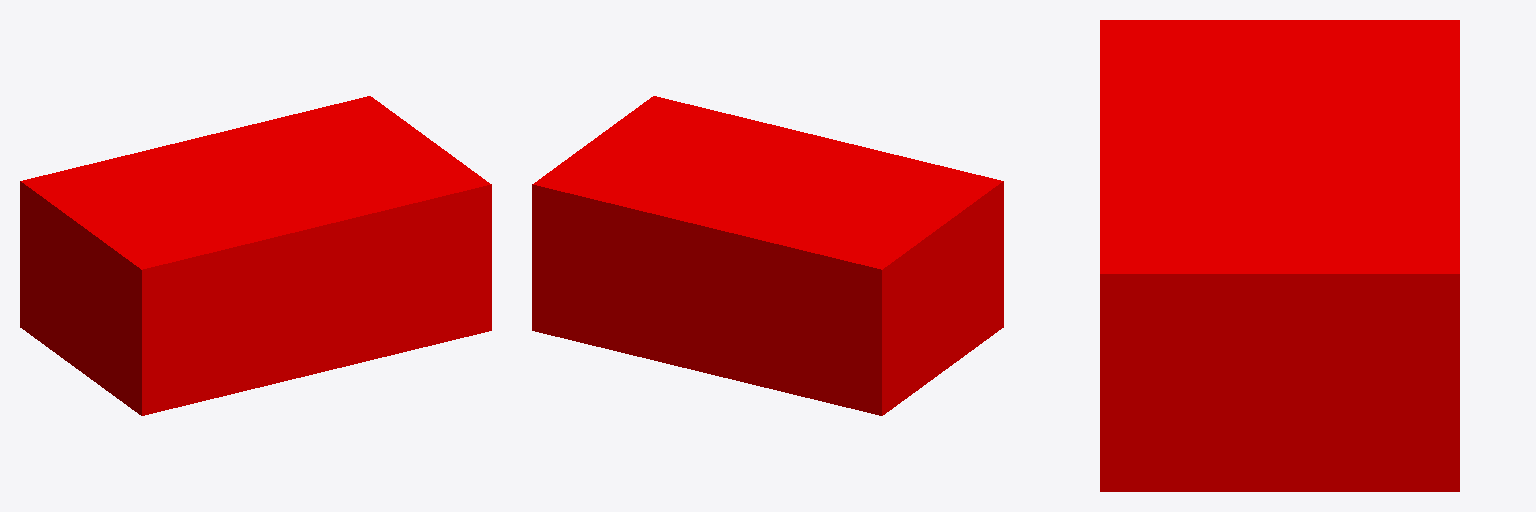
The robot description file, URDF, robot "wall":
<?xml version="1.0"?>
<robot name="wall">
	<link name="base">
	<inertial>
        	 <origin xyz="0 0 0" rpy="0 0 0"/>
        	 <mass value="3"/>
        	 <inertia ixx="0.000683333"  ixy="0"  ixz="0" iyy="0.000683333" iyz="0" izz="0.000683333" />
       </inertial>
		<visual>
			<origin xyz="0 0 0" rpy="0 0 0" />
			<geometry>
				<box size="0.05 0.03 0.02" />
			</geometry>
			<material>
				<color rgba="1 0 0 1" />
			</material>
		</visual>
		<collision>
			<origin xyz="0 0 0" rpy="0 0 0" />
			<material>
				<color rgba="1 0 0 1" />
			</material>
			<geometry>
				<box size="0.05 0.03 0.02" />
			</geometry>
			
		</collision>
	</link>
</robot>

--- Facts derived from the render (not from the file) ---
3 views of the same robot in one strip: view 1: azimuth 30°, elevation 25°; view 2: azimuth 150°, elevation 25°; view 3: azimuth 270°, elevation 25° (orthographic).
Model wall with 1 links and 0 joints (none), rooted at base, posed every joint at zero.
Visible links, largest first — view 1: base; view 2: base; view 3: base.
Boxes of the visible links, bbox=[...] form: base: bbox=[20, 96, 491, 415]; base: bbox=[532, 96, 1003, 415]; base: bbox=[1100, 20, 1459, 491].
Bounding box of the posed robot: 0.05 × 0.03 × 0.02 m (x, y, z).
Geometry: primitives only (box / cylinder / sphere), no mesh files.
